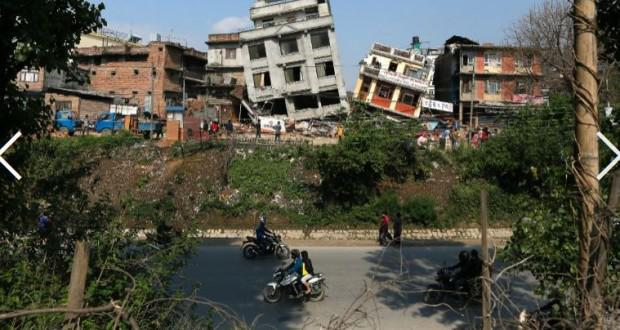destroyed: (218, 0, 360, 140), (347, 30, 444, 142)
